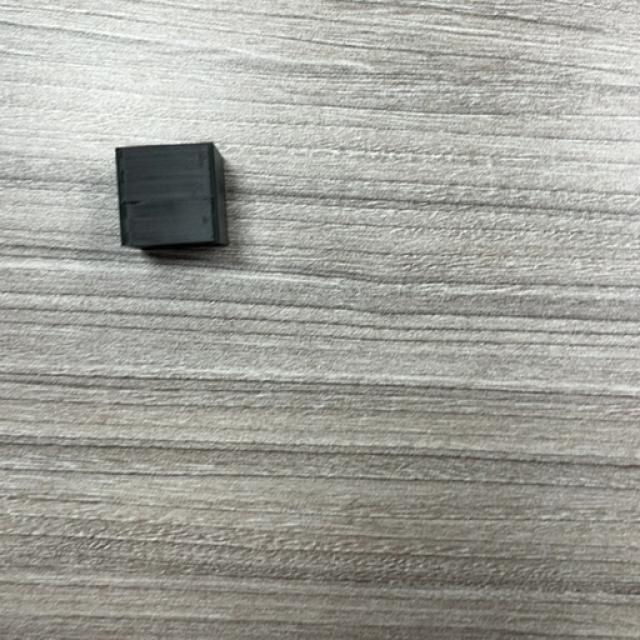Negro: (115, 141, 229, 251)
